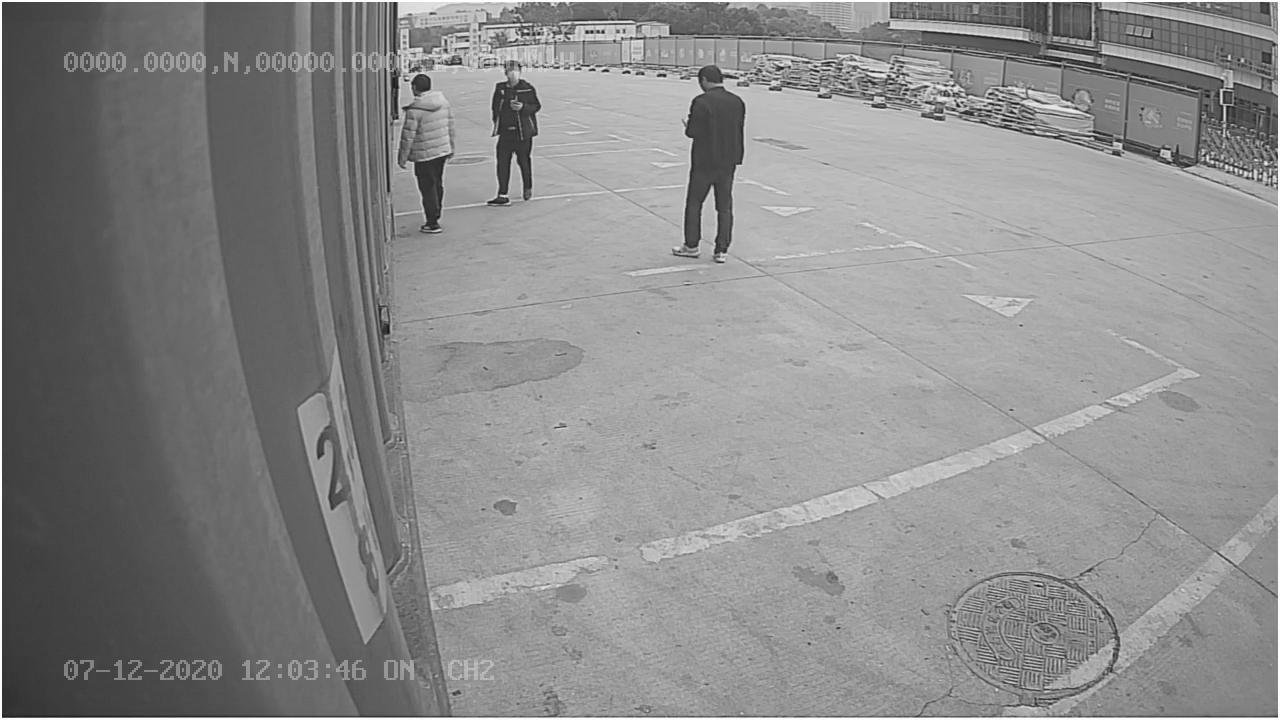person: (668, 59, 749, 272)
